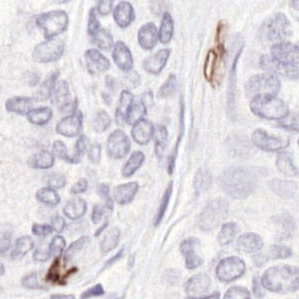Lymphocyte: (202, 43, 224, 84)
